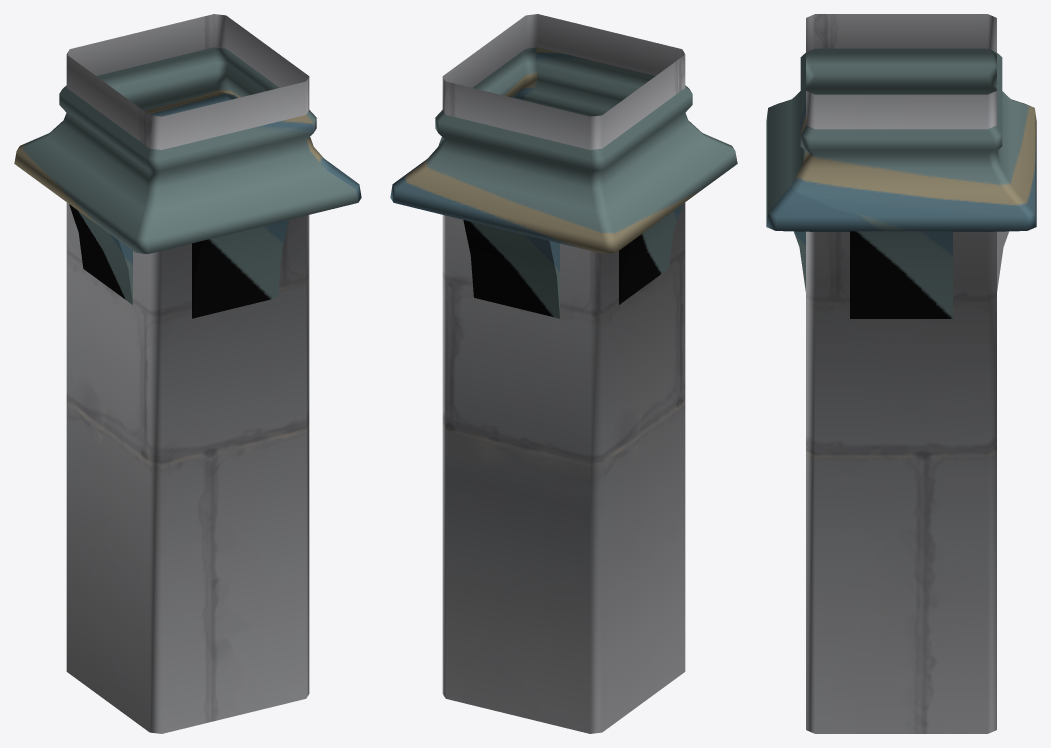
Rendered from SM_Column_1mVar3.fbx.
The picture shows the model from 3 angles, left to right: view 1: azimuth 30°, elevation 25°; view 2: azimuth 150°, elevation 25°; view 3: azimuth 270°, elevation 25°; orthographic projection. The views are drawn at different scales.
Parts seen in each view (by area): view 1: SM_Column_1mVar3; view 2: SM_Column_1mVar3; view 3: SM_Column_1mVar3.
Part boxes in pixels (<box>): SM_Column_1mVar3: <box>14,14,361,733</box>; SM_Column_1mVar3: <box>390,14,737,733</box>; SM_Column_1mVar3: <box>766,14,1036,733</box>.
Size of the model in its own units: 0.3829 by 1 by 0.3829.
